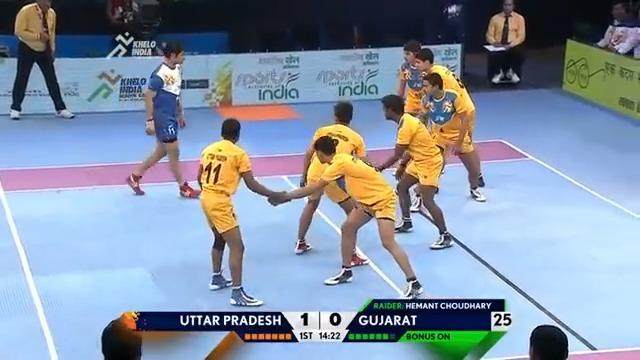Player: (276, 135, 435, 301), (194, 115, 280, 307), (402, 46, 488, 204), (373, 92, 455, 250)
Raider: (124, 39, 201, 200)
referee: (8, 0, 76, 120), (484, 0, 526, 85)
